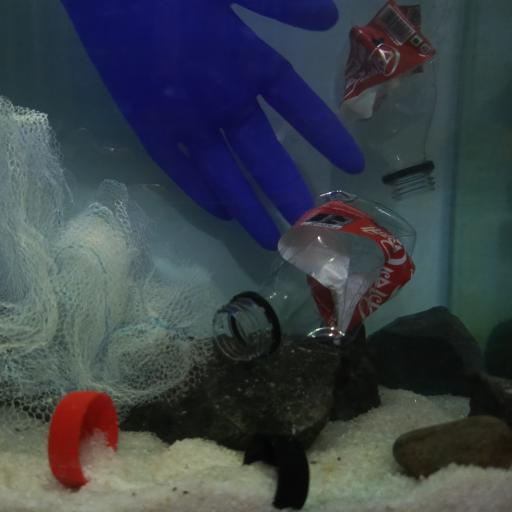bottle_cap: (48, 391, 119, 488), (244, 432, 309, 512)
glove: (59, 0, 365, 252)
net: (2, 93, 220, 434)
plastic_bottle: (212, 190, 416, 362), (339, 0, 439, 203)
